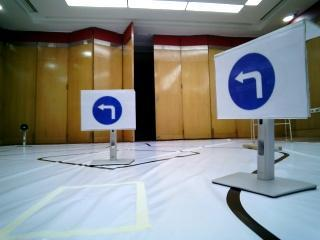left: (224, 50, 291, 114), (88, 91, 131, 129)
